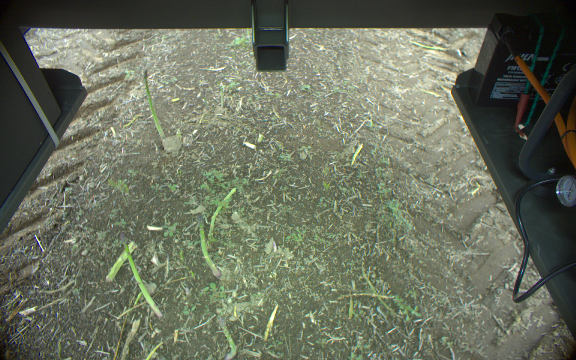aspa: (119, 236, 160, 317), (140, 68, 165, 139), (194, 213, 220, 278), (208, 314, 238, 360), (209, 188, 235, 240), (112, 242, 137, 282)
